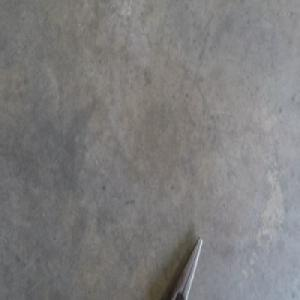Pliers: (169, 235, 202, 298)
